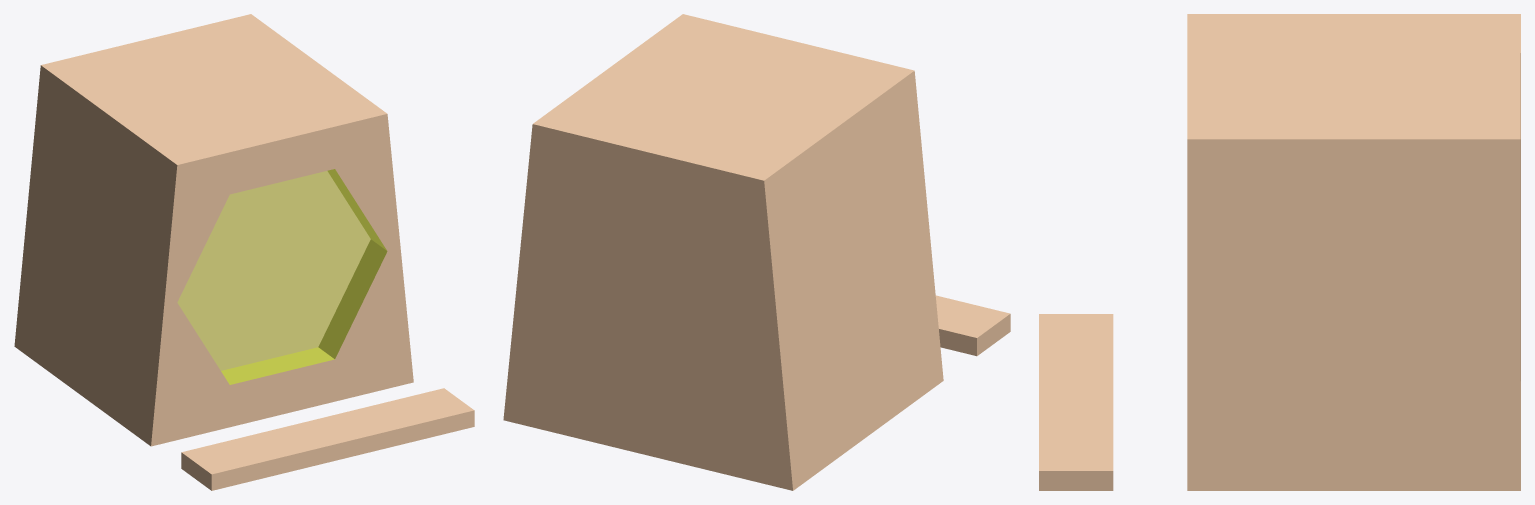
File: computer5.gltf
The picture shows the model from 3 angles, left to right: view 1: azimuth 30°, elevation 25°; view 2: azimuth 150°, elevation 25°; view 3: azimuth 270°, elevation 25°; orthographic projection. The views are drawn at different scales.
Visible parts, largest first — view 1: Mesh1 Model, Mesh2 Model; view 2: Mesh1 Model, Mesh2 Model; view 3: Mesh1 Model, Mesh2 Model.
Part boxes in pixels (x1,y1,x2,y2): Mesh1 Model: (14,14,413,446); Mesh2 Model: (181,388,474,490); Mesh1 Model: (503,14,943,490); Mesh2 Model: (935,295,1010,356); Mesh1 Model: (1187,14,1520,490); Mesh2 Model: (1039,314,1113,490).
Size of the model in its own units: 0.5 by 0.5 by 0.65.
